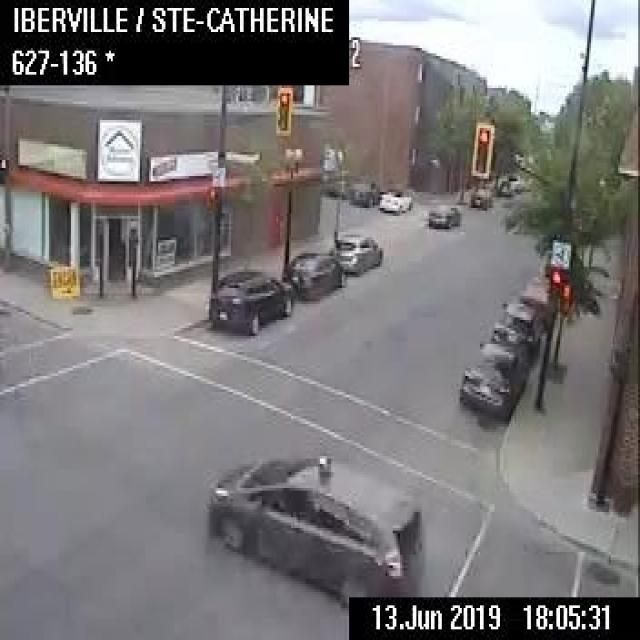vehicle: (204, 448, 424, 611), (458, 338, 528, 418), (207, 268, 293, 332), (285, 250, 346, 298), (492, 298, 542, 344), (334, 231, 382, 271), (522, 272, 549, 324), (348, 177, 378, 206), (428, 200, 460, 227), (378, 186, 411, 212), (469, 173, 492, 208), (496, 178, 512, 193)
